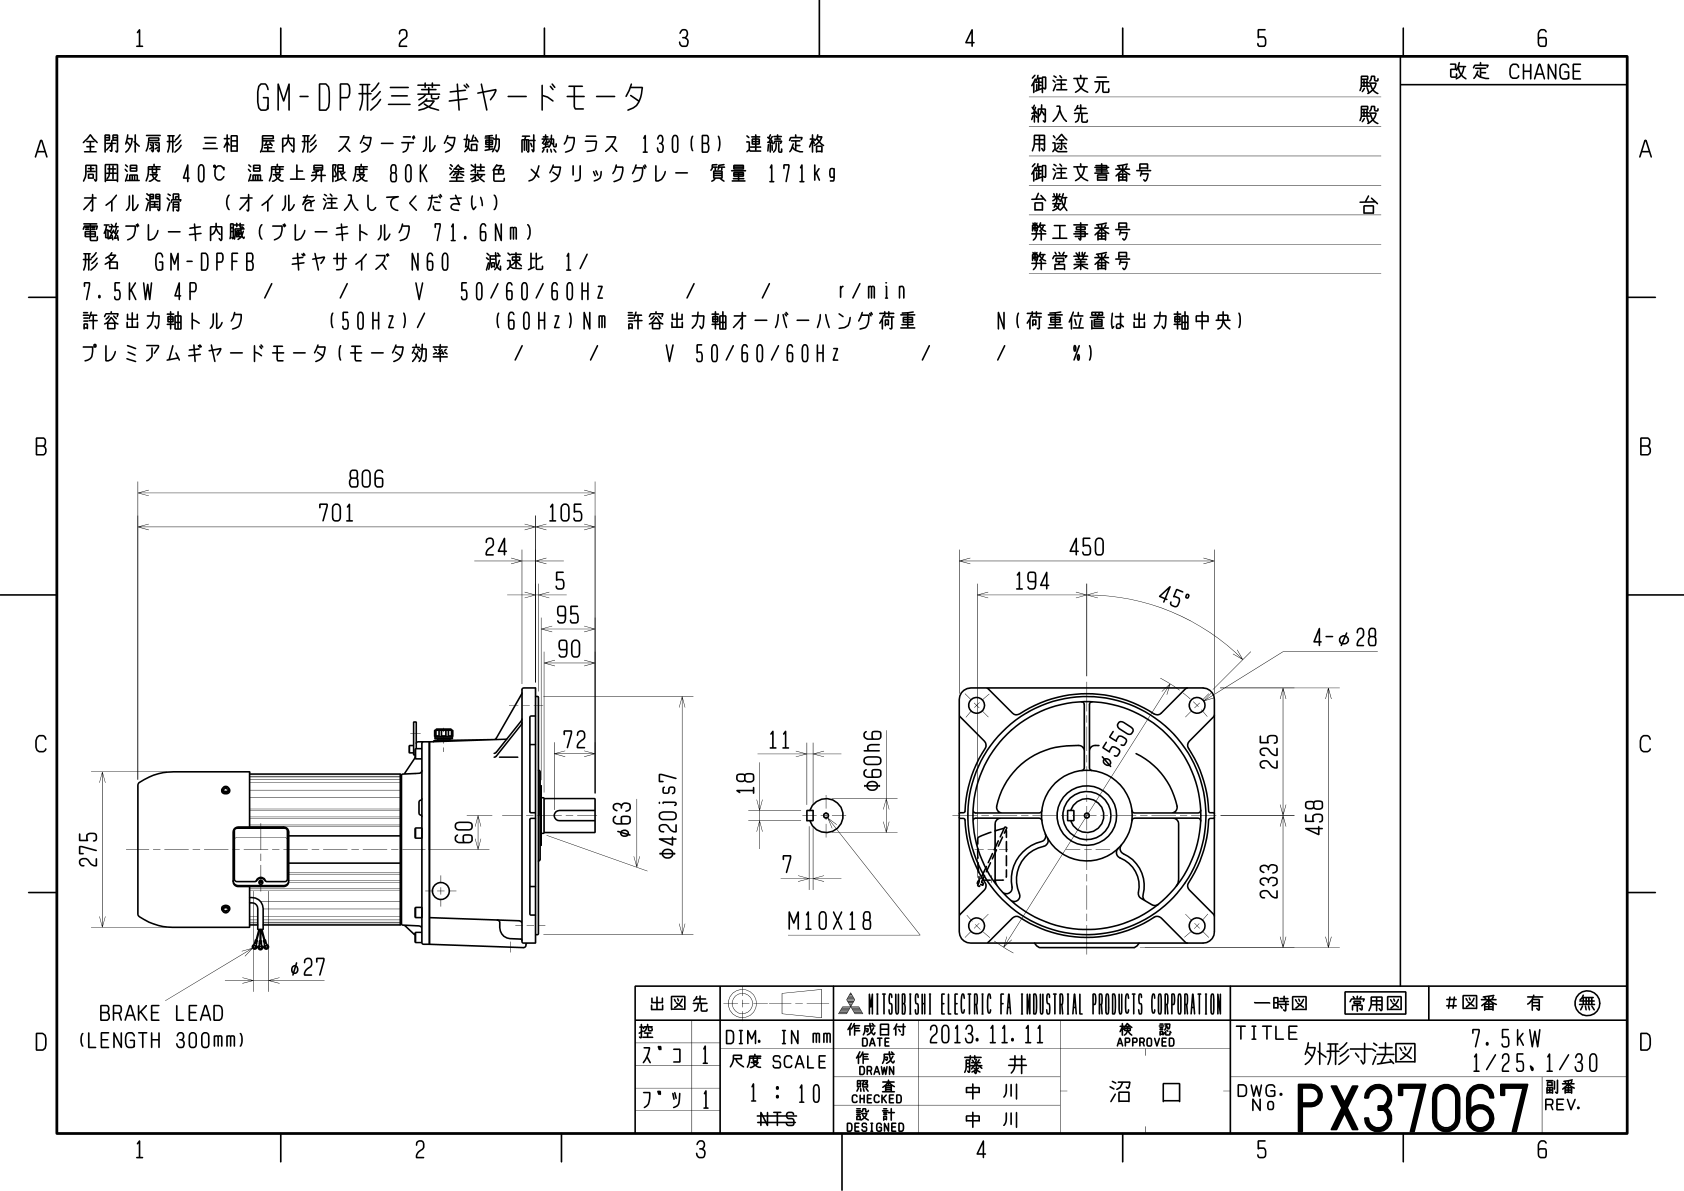GM_DP_屋内_三相_フランジ: (12, 3, 1684, 1191)
